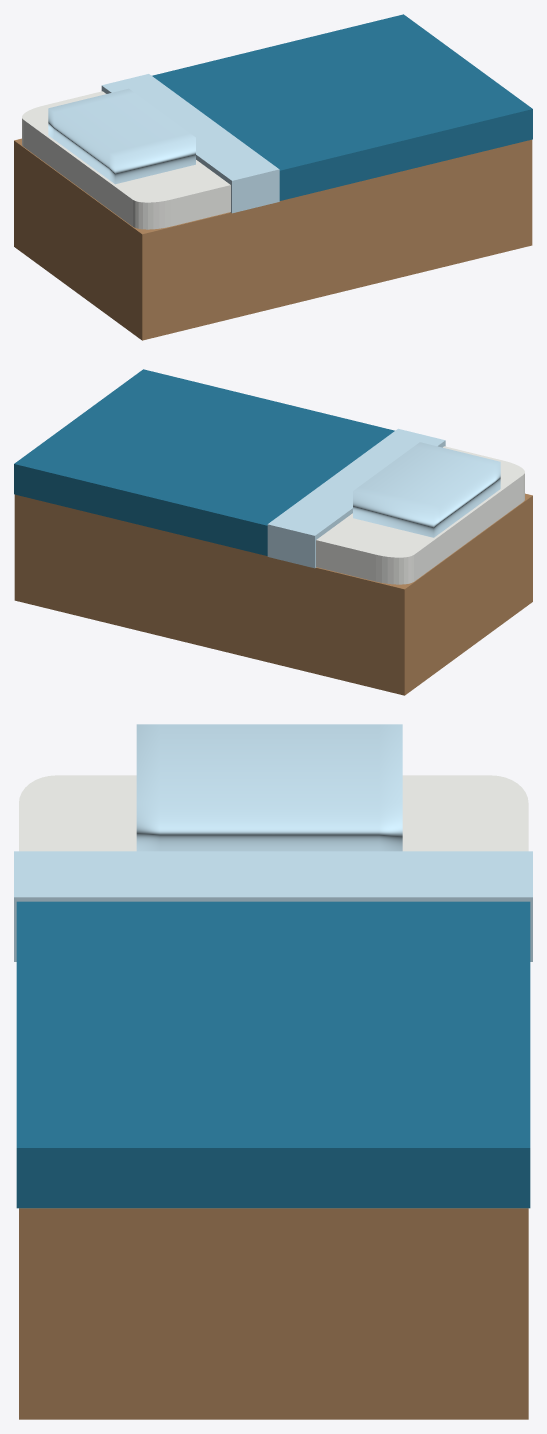
The model's file is Kids bed2.fbx.
3 views of the same model, one above another, from view 1: azimuth 30°, elevation 25°; view 2: azimuth 150°, elevation 25°; view 3: azimuth 270°, elevation 25° (orthographic). The views are drawn at different scales.
Visible parts, largest first — view 1: blanket.007; view 2: blanket.007; view 3: blanket.007.
Boxes of the visible parts, x1,y1,x2,y2 form: blanket.007: (14,14,532,340); blanket.007: (14,369,532,695); blanket.007: (14,724,532,1419).
Bounding box in the file's own units: 195 × 76.83 × 113.
